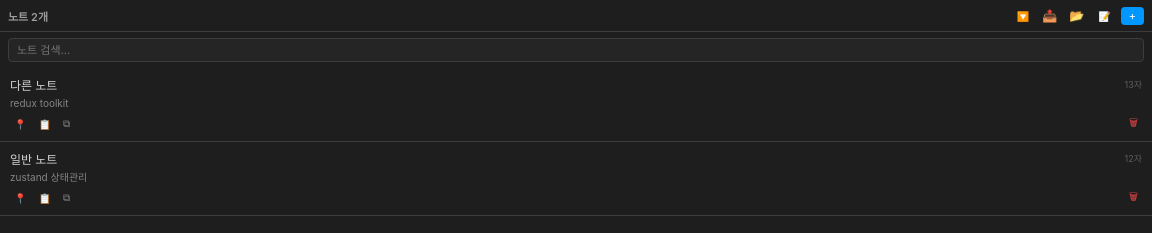
Scenario: NotesPanel › 검색어가 내용에 포함된 노트도 표시한다
Type "zustand" into the field with placeholder "노트 검색..." at (576, 50), box x1=8 y1=38 x2=1144 y2=62
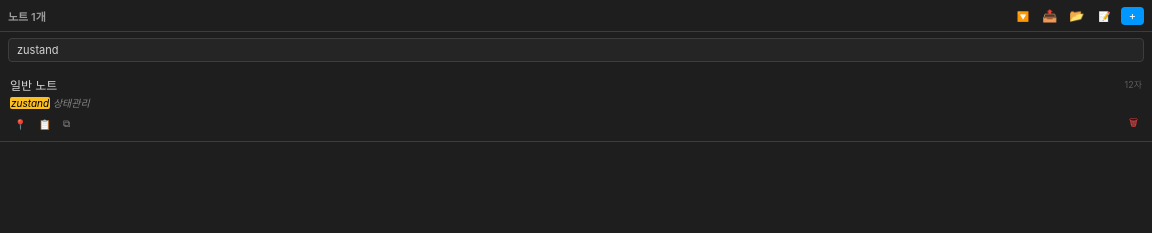
Expected: the text "일반 노트" is shown, x1=10 y1=78 x2=57 y2=93
Now the text "다른 노트" is gone
